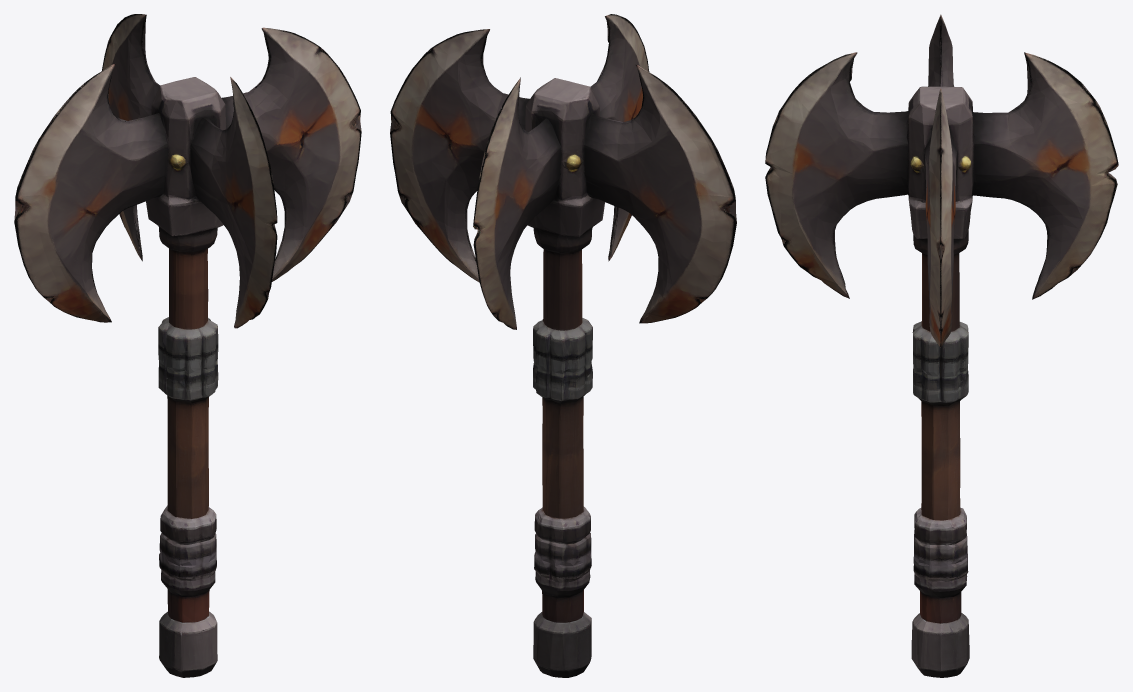
The model's file is axe.glb.
3 views of the same model, side by side, from view 1: azimuth 30°, elevation 25°; view 2: azimuth 150°, elevation 25°; view 3: azimuth 270°, elevation 25° (orthographic).
Visible parts, largest first — view 1: world; view 2: world; view 3: world.
Part boxes in pixels (bbox=[...]): world: bbox=[14, 14, 361, 677]; world: bbox=[390, 14, 736, 677]; world: bbox=[765, 14, 1118, 677].
Size of the model in its own units: 0.5841 by 1 by 0.5202.
Materials: 1 (1 with a texture image).
